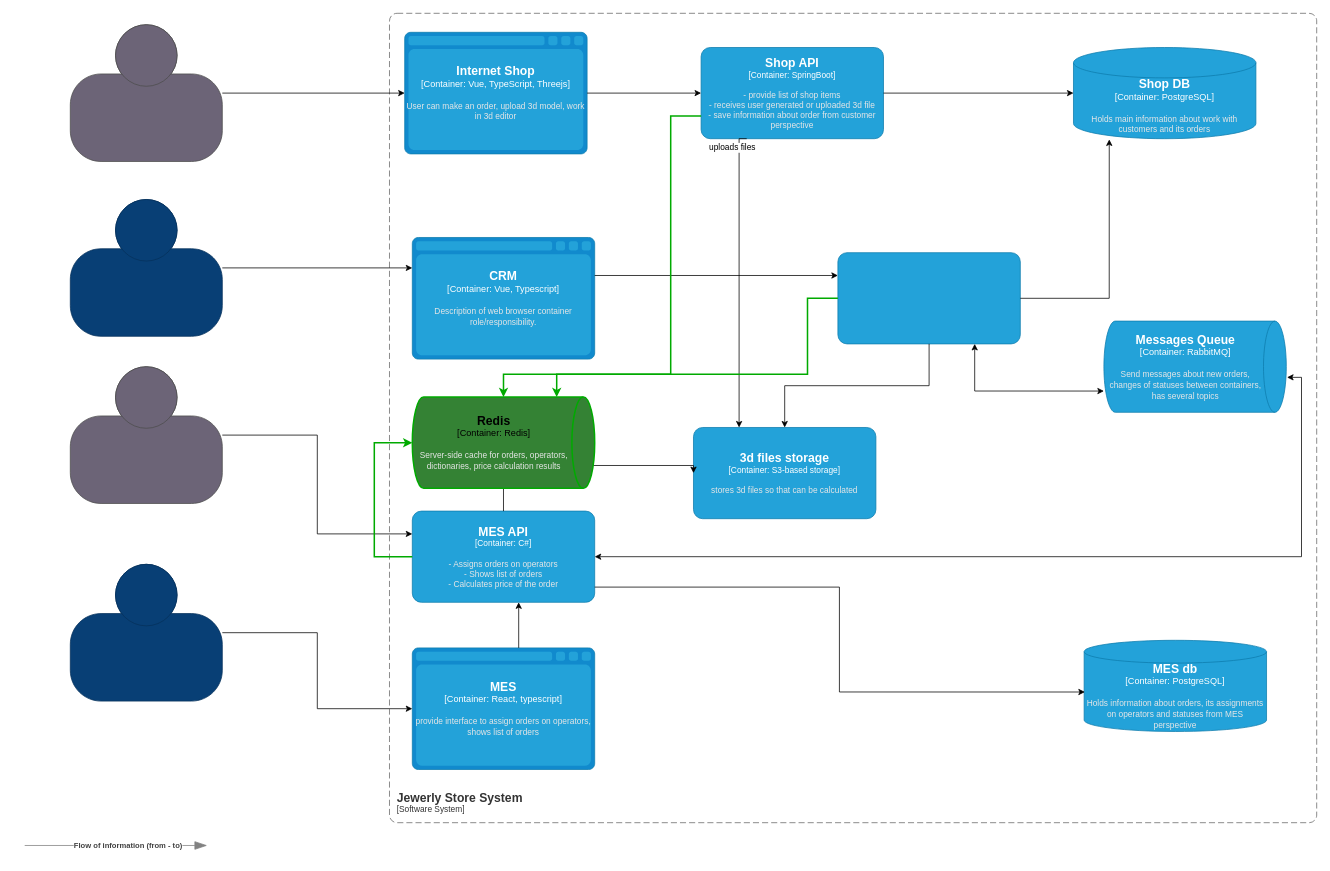
Image size: 1330x871. Some labels were removed from this diagram. The shapes that lost their labels are listed below. From the top down, each one's box as (x1, y1, x2, y2) in pixels, then its label:
(70, 24, 222, 162): Customer [Person] Description of external person.
(70, 199, 222, 336): Seller [Person] Operates with order, confirms manufacturing for the user
(837, 252, 1020, 344): CRM API [Container: SpringBoot] Description of container role/responsibility.
(70, 366, 222, 504): API user [Person] Description of external person.
(70, 564, 222, 701): Operator [Person] Takes order in work, manufactures jewerly
